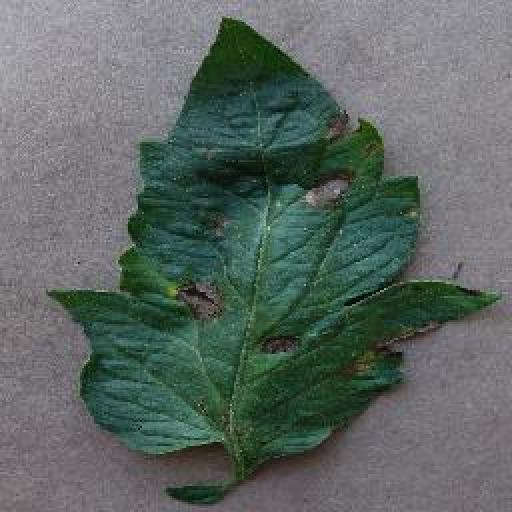disease_tomato: (58, 19, 502, 457)
